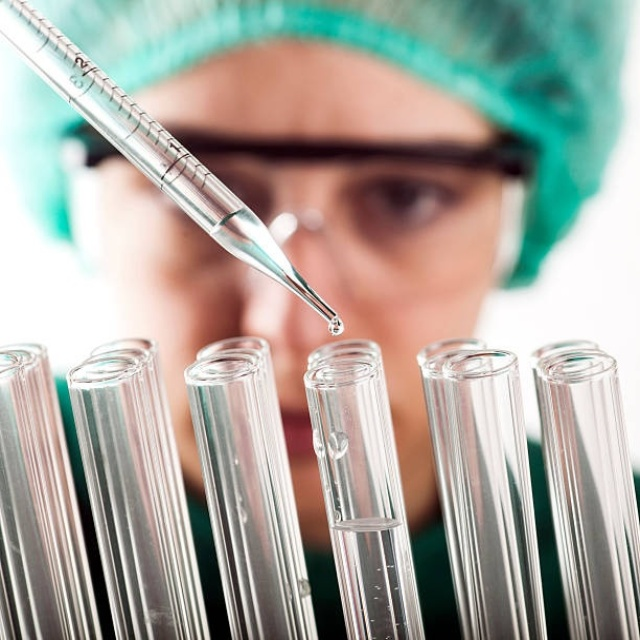Gafas: (71, 123, 533, 286)
